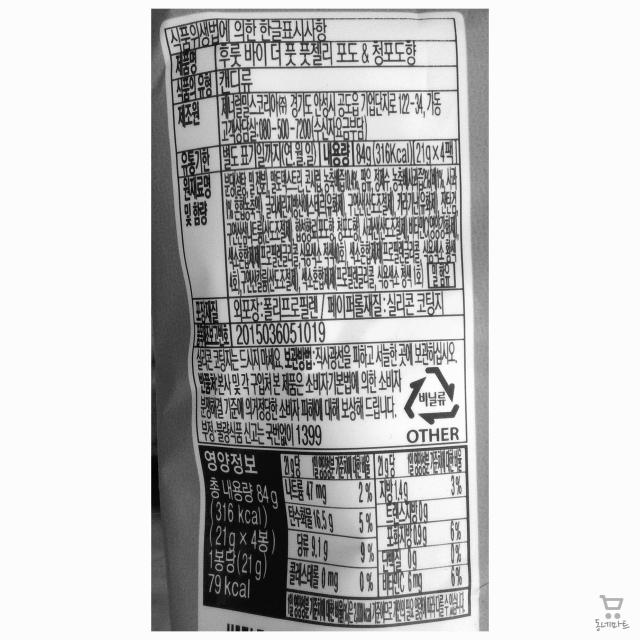Nutrition Label: (195, 439, 480, 630)
